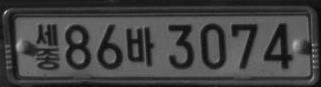0: (199, 21, 226, 69)
3: (167, 23, 195, 69)
4: (263, 22, 294, 69)
6: (96, 23, 123, 70)
7: (230, 22, 259, 69)
8: (63, 22, 91, 70)
바: (125, 26, 155, 66)
세종_V: (35, 23, 60, 70)
